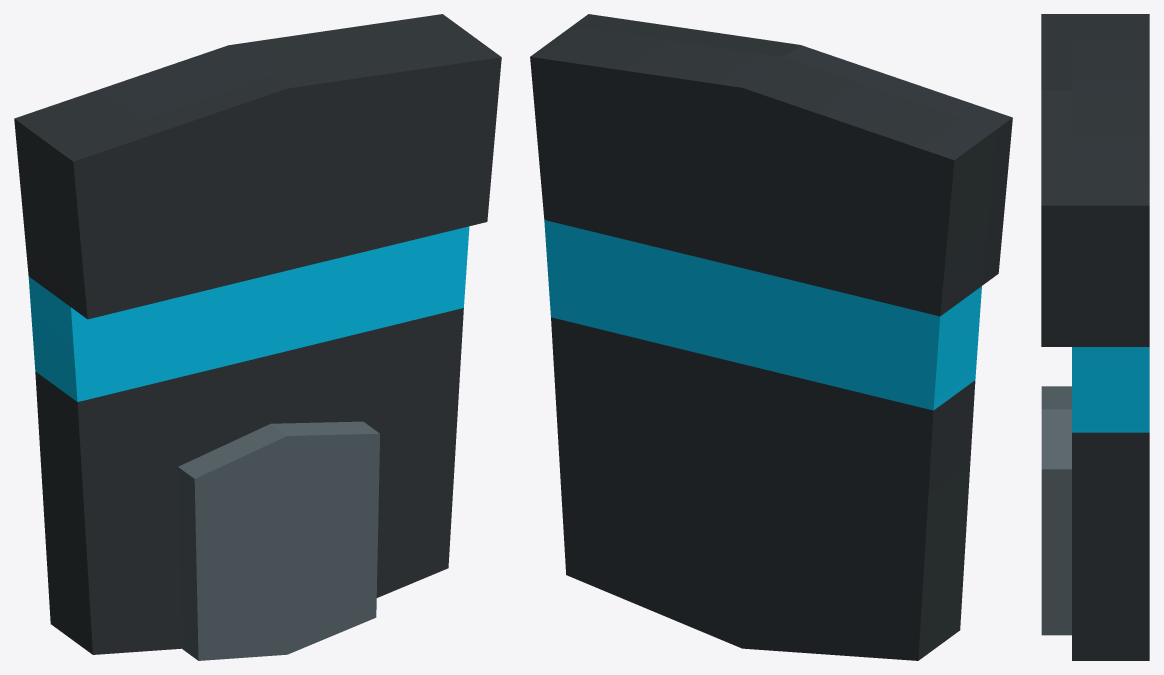
The model's file is Mask 01 Blue.FBX.
3 renders of one model, left to right at view 1: azimuth 30°, elevation 25°; view 2: azimuth 150°, elevation 25°; view 3: azimuth 270°, elevation 25°, orthographic. The views are drawn at different scales.
Parts seen in each view (by area): view 1: Mask 01 Blue; view 2: Mask 01 Blue; view 3: Mask 01 Blue.
Part boxes in pixels (x1=…): Mask 01 Blue: x1=14, y1=14, x2=501, y2=660; Mask 01 Blue: x1=530, y1=14, x2=1012, y2=660; Mask 01 Blue: x1=1041, y1=14, x2=1149, y2=660.
Size of the model in its own units: 19.34 by 24.42 by 4.62.
